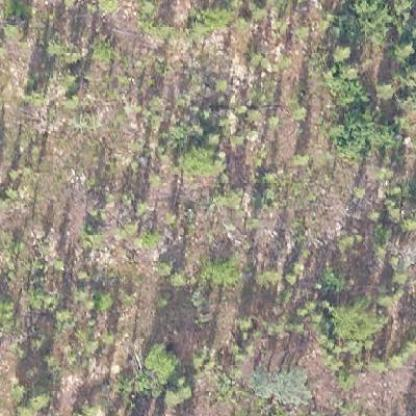tree-top: (248, 358, 317, 405), (337, 107, 397, 153), (324, 60, 374, 110), (328, 294, 378, 339), (140, 340, 181, 380), (178, 141, 218, 180), (354, 2, 395, 38), (200, 254, 244, 285), (41, 34, 86, 64), (192, 6, 238, 31), (28, 382, 51, 408)
